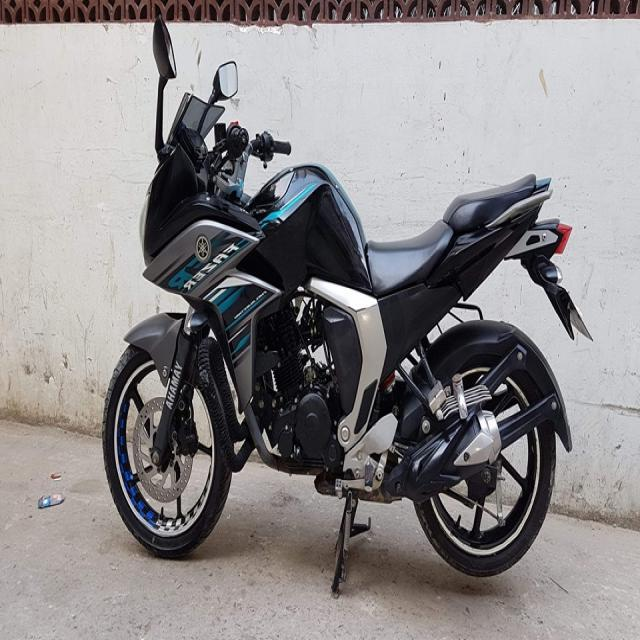Motorbike: (96, 6, 593, 601)
